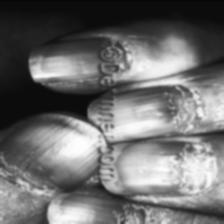Toxin: (163, 82, 214, 133), (170, 140, 216, 194), (104, 200, 155, 224)
